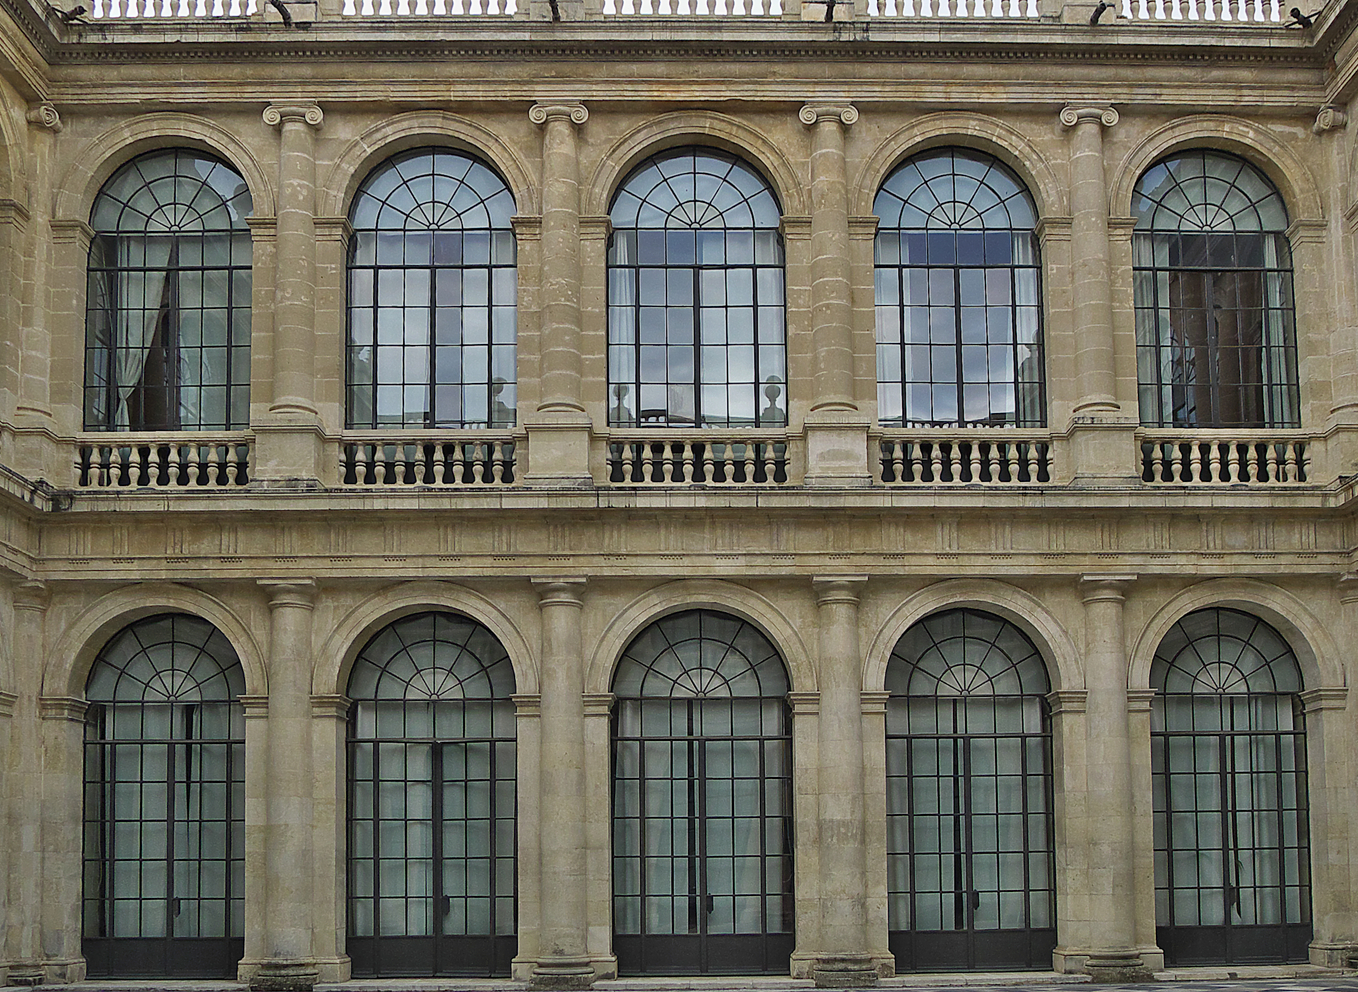arco-medio-punto: (576, 575, 823, 723), (34, 578, 274, 730), (305, 573, 545, 725), (311, 105, 547, 253), (857, 571, 1089, 720), (45, 104, 282, 249), (1119, 573, 1349, 719), (573, 105, 814, 244), (1103, 108, 1328, 254), (843, 106, 1074, 249)
